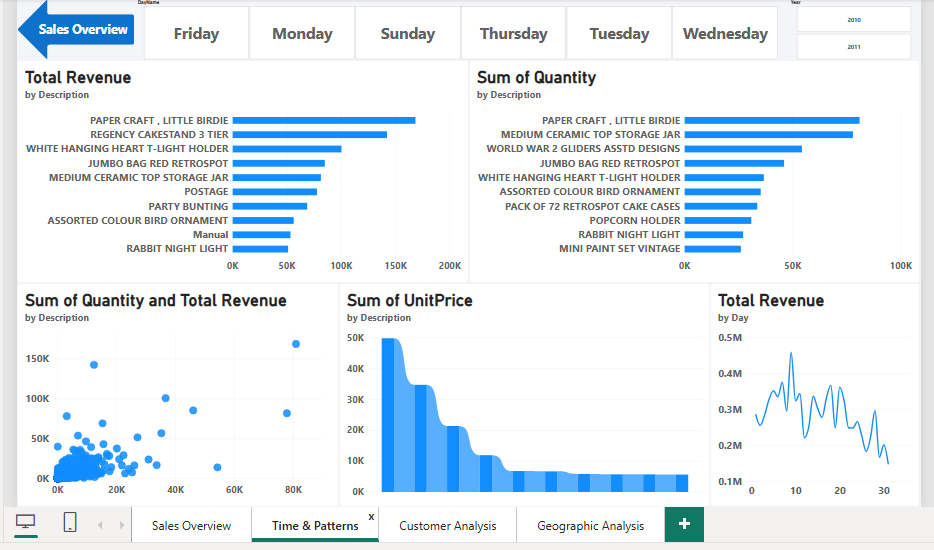

The page's visual inventory and layout, read from the dashboard file:
{"tool":"powerbi","page":{"name":"Time & Patterns","canvas":[1920,1080],"ordinal":1},"visuals":[{"type":"barChart","fields":{"Category":["Sheet1.Description"],"Y":["Sheet1.Total Revenue"]},"box":[0,129.7,960.9,474.1],"z":0},{"type":"barChart","fields":{"Category":["Sheet1.Description"],"Y":["Sum(Sheet1.Quantity)"]},"box":[960.9,129.7,958.8,474.1],"z":1000},{"type":"scatterChart","fields":{"Category":["Sheet1.Description"],"X":["Sum(Sheet1.Quantity)"],"Y":["Sheet1.Total Revenue"]},"box":[0,603.8,684.6,476.2],"z":2000},{"type":"ribbonChart","fields":{"Category":["Sheet1.Description"],"Y":["Sum(Sheet1.UnitPrice)"]},"box":[684.6,603.8,788.7,476.2],"z":3000},{"type":"lineChart","fields":{"Category":["Sheet1.Day"],"Y":["Sheet1.Total Revenue"]},"box":[1473.3,603.8,446.5,476.2],"z":4000},{"type":"slicer","fields":{"Values":["Sheet1.Year"]},"box":[1636.2,0,283,129.8],"z":5000},{"type":"slicer","fields":{"Values":["Sheet1.DayName"]},"box":[248.9,0,1387.2,129.8],"z":6000},{"type":"actionButton","box":[0,0,248.9,129.8],"z":7000}]}

Visuals, with their boxes on the page's 1920x1080 design canvas (x1, y1, x2, y2). These are canvas units, not pixel positions in the 934x550 screenshot, which may show the page scaled, cropped or inside an application window:
barChart - Sheet1.Description x Sheet1.Total Revenue: pyautogui.locateOnScreen(0, 130, 961, 604)
barChart - Sheet1.Description x Sum(Sheet1.Quantity): pyautogui.locateOnScreen(961, 130, 1920, 604)
scatterChart - Sheet1.Description x Sum(Sheet1.Quantity): pyautogui.locateOnScreen(0, 604, 685, 1080)
ribbonChart - Sheet1.Description x Sum(Sheet1.UnitPrice): pyautogui.locateOnScreen(685, 604, 1473, 1080)
lineChart - Sheet1.Day x Sheet1.Total Revenue: pyautogui.locateOnScreen(1473, 604, 1920, 1080)
slicer - Sheet1.Year: pyautogui.locateOnScreen(1636, 0, 1919, 130)
slicer - Sheet1.DayName: pyautogui.locateOnScreen(249, 0, 1636, 130)
actionButton: pyautogui.locateOnScreen(0, 0, 249, 130)
